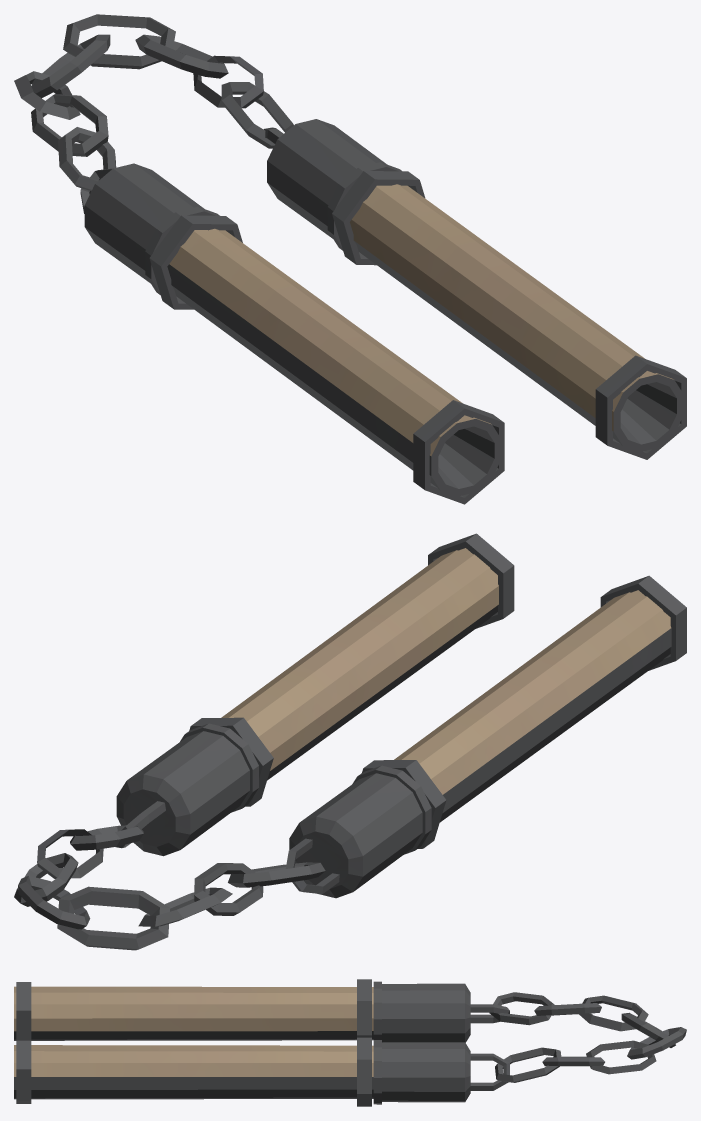
The model's file is scene_dQu47yT8Gx.glb.
The picture shows the model from 3 angles, top to bottom: view 1: azimuth 30°, elevation 25°; view 2: azimuth 150°, elevation 25°; view 3: azimuth 270°, elevation 25°; orthographic projection. The views are drawn at different scales.
Visible parts, largest first — view 1: Nunchucks; view 2: Nunchucks; view 3: Nunchucks.
Boxes of the visible parts, x1,y1,x2,y2 form: Nunchucks: (14,14,686,504); Nunchucks: (14,533,686,950); Nunchucks: (14,979,686,1106).
Size of the model in its own units: 0.1584 by 0.0536 by 0.5166.
Materials: 1 (1 with a texture image).
